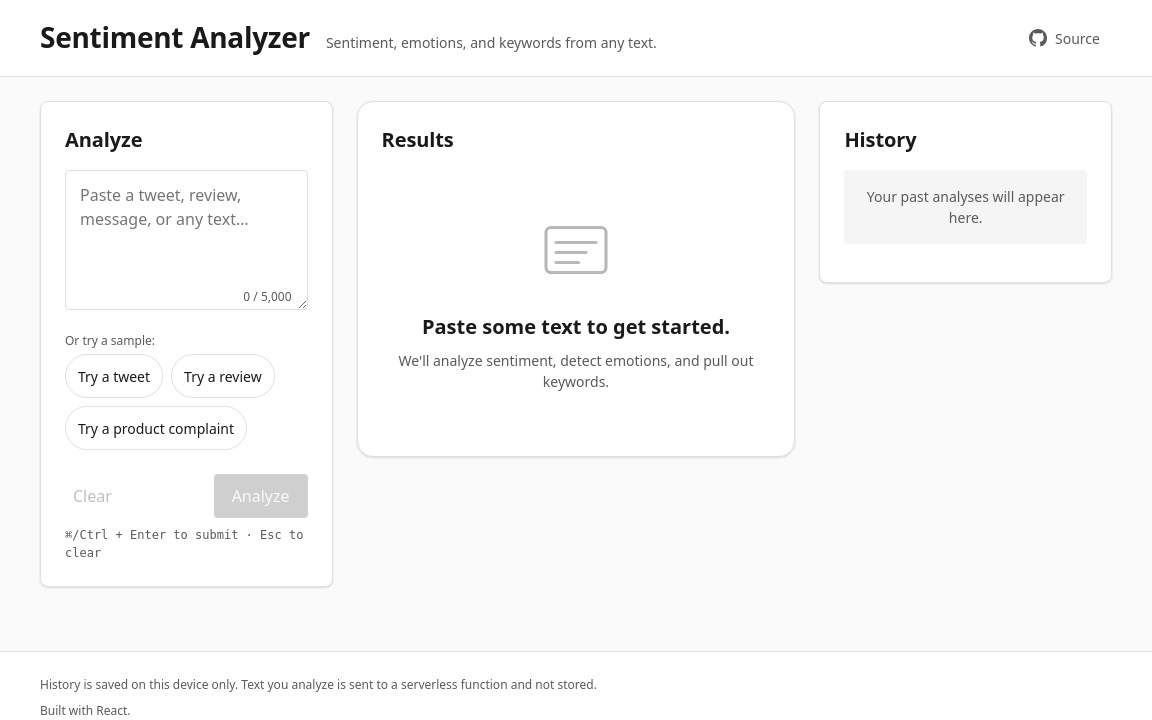
Test case: App: history selection is id-based, not timestamp-based › clicking a history row marks it aria-current='true'; submitting clears the selection
// Submit twice to get two entries in history.
In the text box named "Text to analyze": x=186, y=240 top-left (65, 170), bottom-right (308, 310), type "I love this"
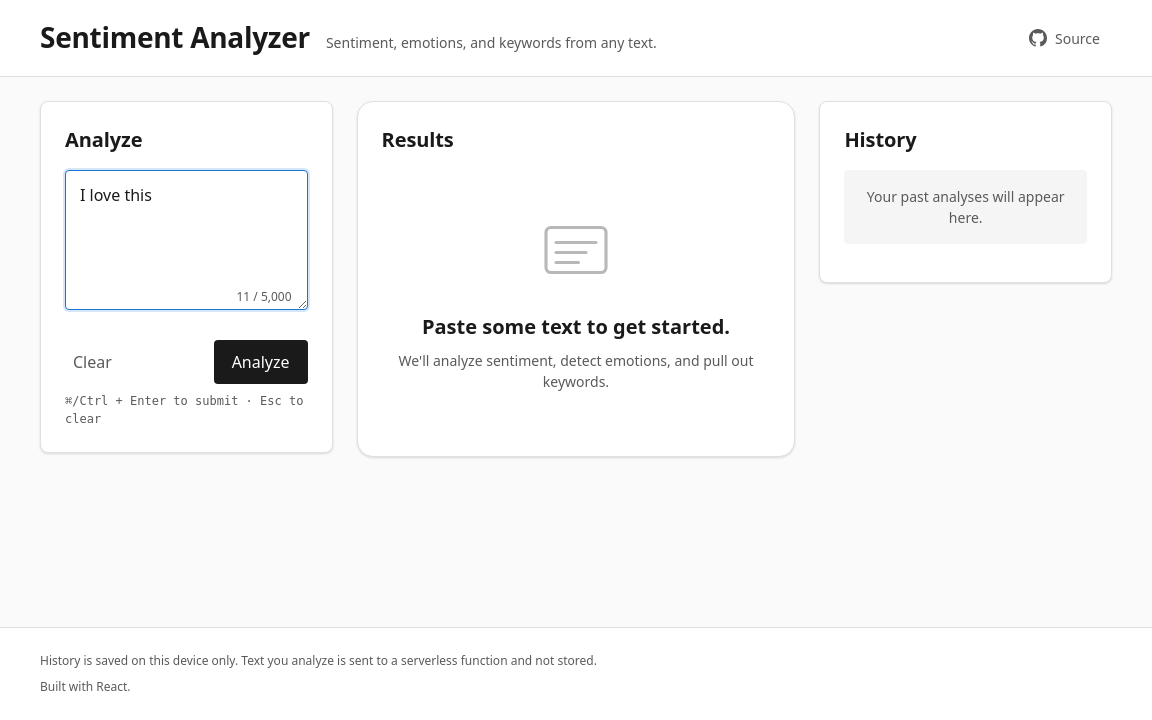
Click the button "Analyze": x=261, y=362 top-left (214, 340), bottom-right (308, 384)
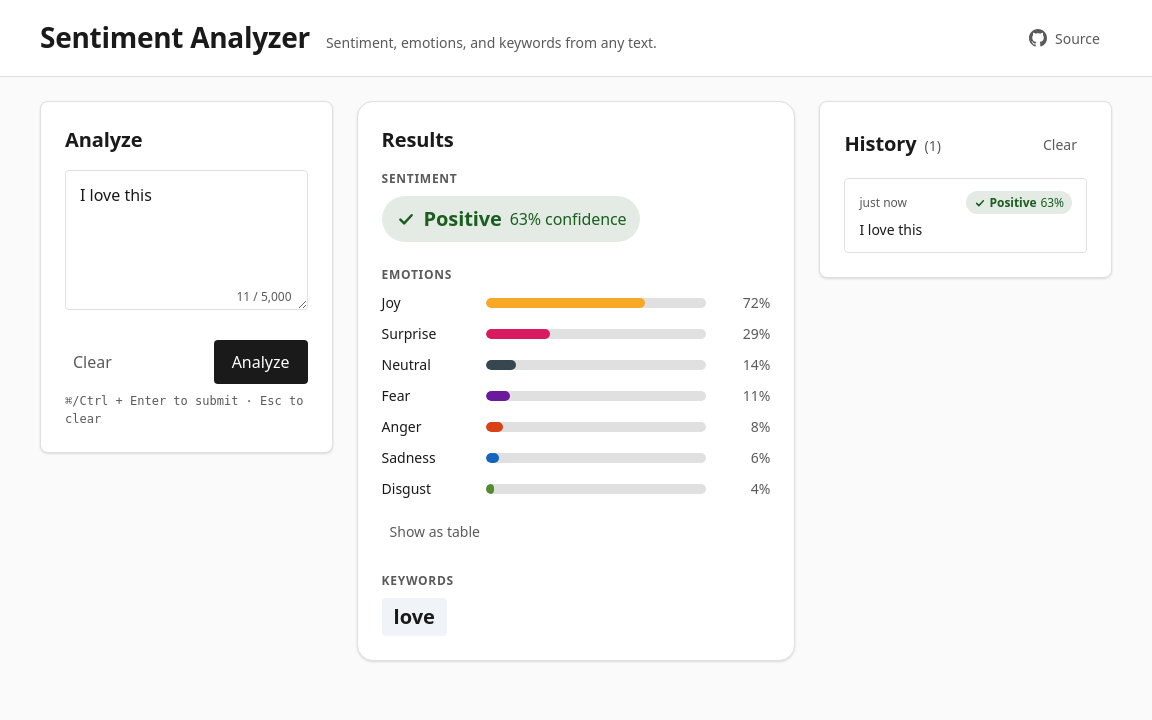
Expected: the number of list items is 1, top-left (844, 178), bottom-right (1087, 253)
Replace the text in the text box named "Text to analyze" with "I hate this": x=186, y=240 top-left (65, 170), bottom-right (308, 310)
Click the button "Analyze": x=261, y=362 top-left (214, 340), bottom-right (308, 384)
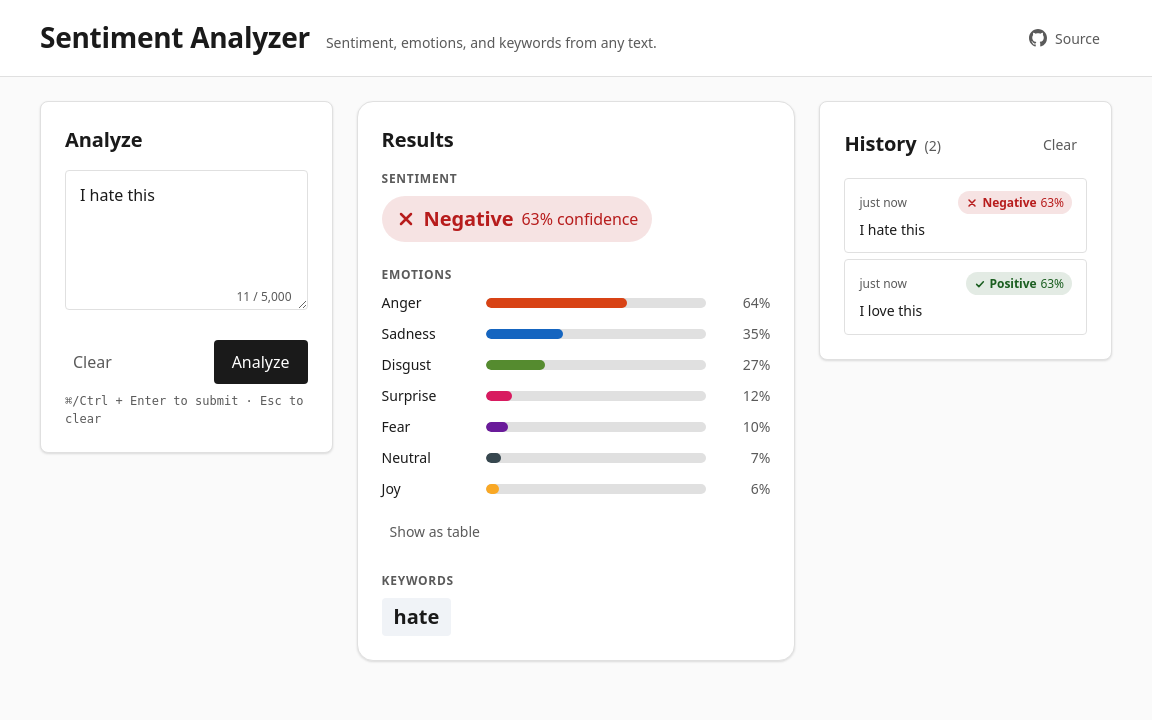
Expected: the number of list items is 2
Click the button "just now Positive 63% I love this": x=966, y=297 top-left (844, 259), bottom-right (1087, 335)
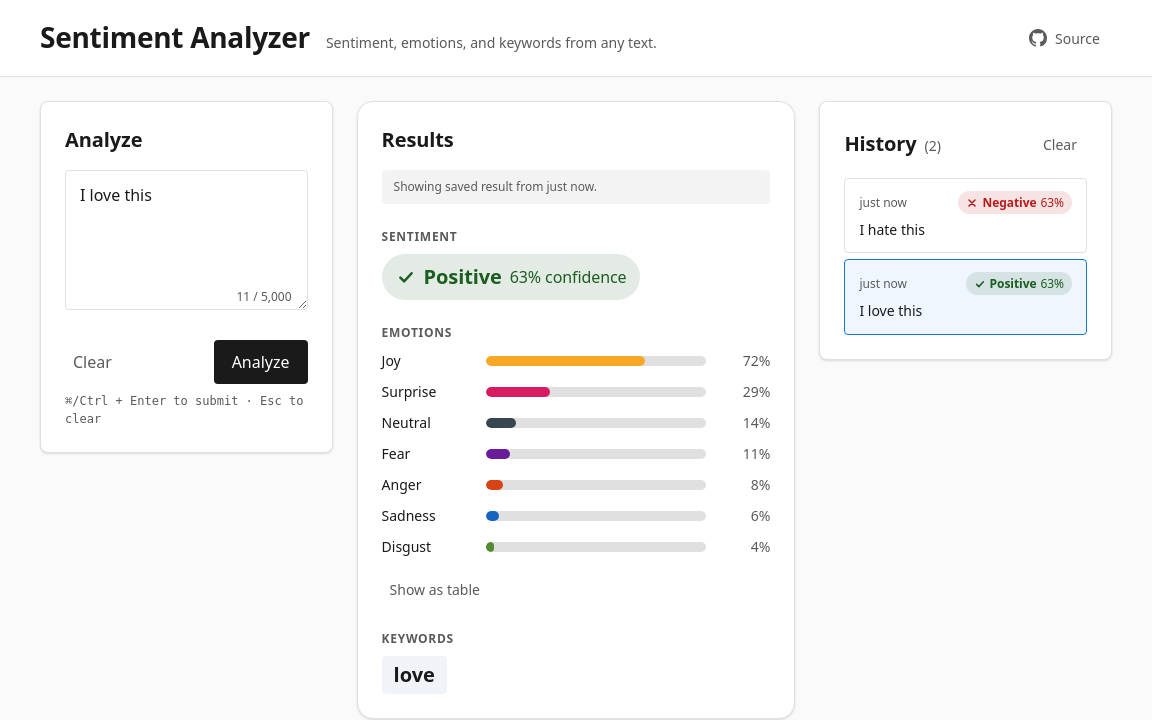
// Submit again — selection should clear.
Replace the text in the text box named "Text to analyze" with "neutral observation noted": x=186, y=240 top-left (65, 170), bottom-right (308, 310)
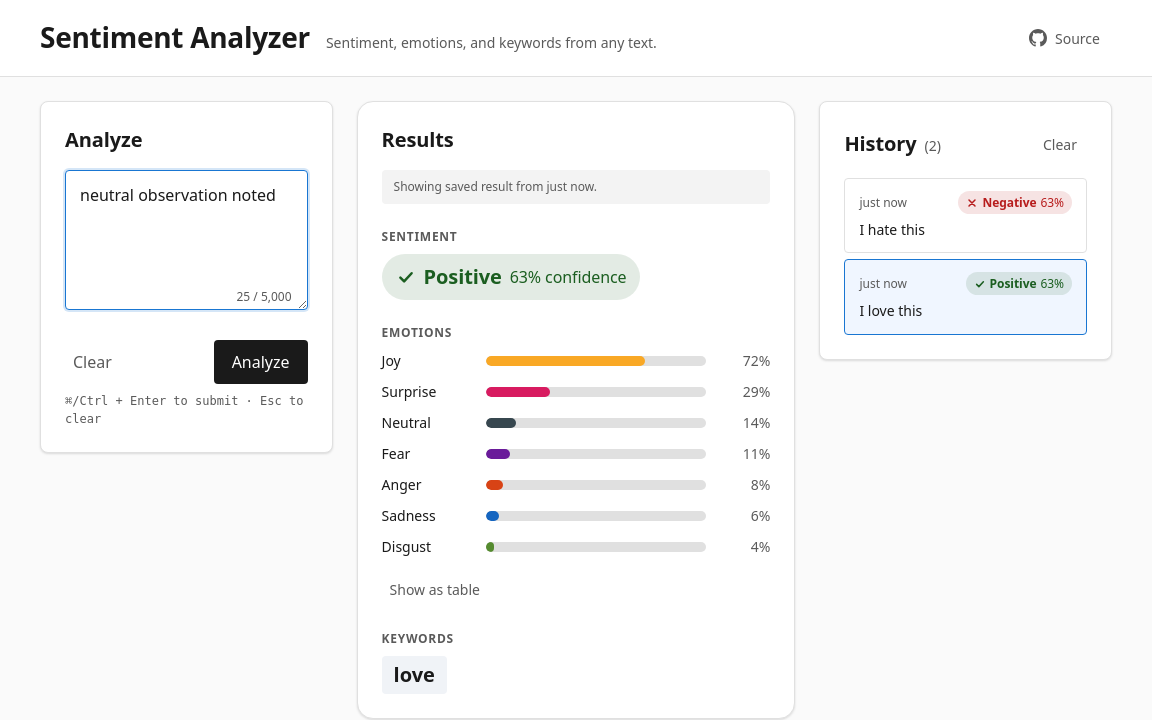
Click the button "Analyze": x=261, y=362 top-left (214, 340), bottom-right (308, 384)
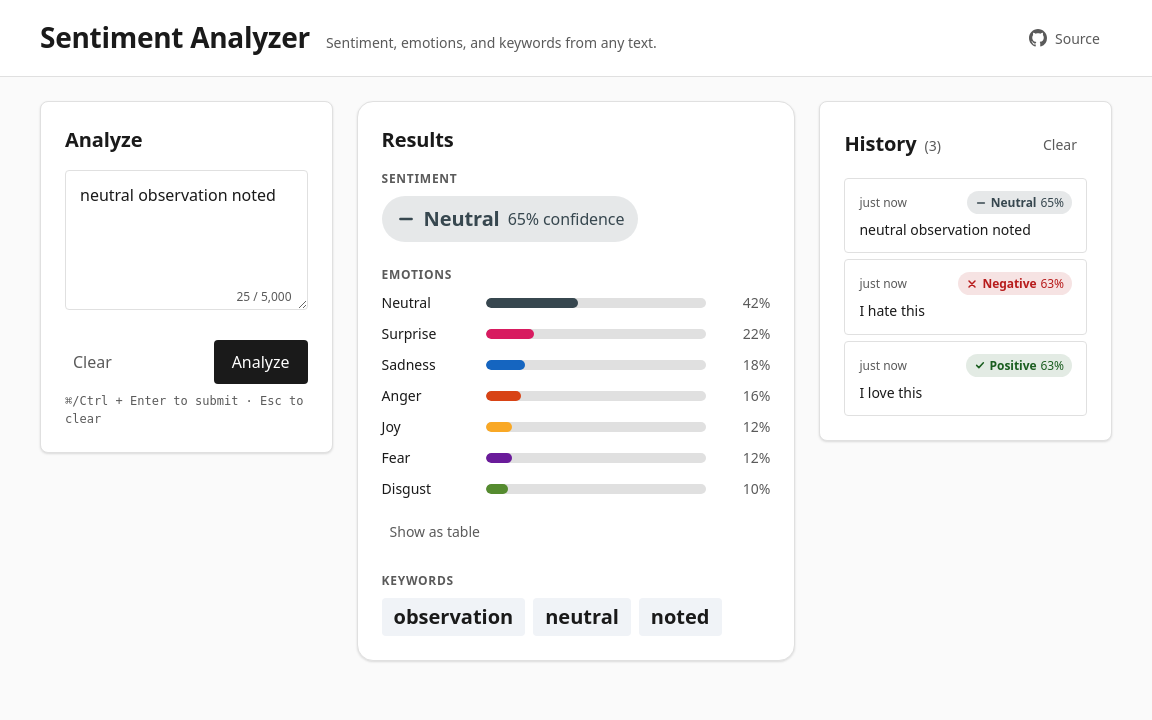
Expected: the number of list items is 3, top-left (844, 178), bottom-right (1087, 253); top-left (844, 259), bottom-right (1087, 335); top-left (844, 341), bottom-right (1087, 416)
